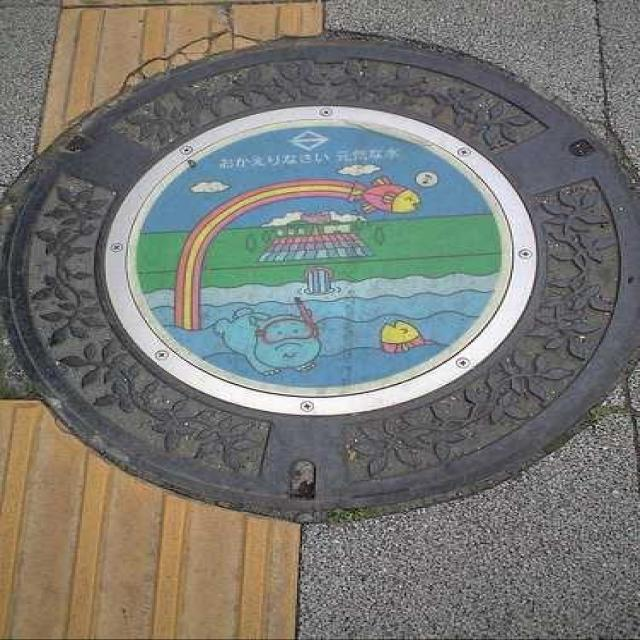manhole: (3, 40, 637, 519)
